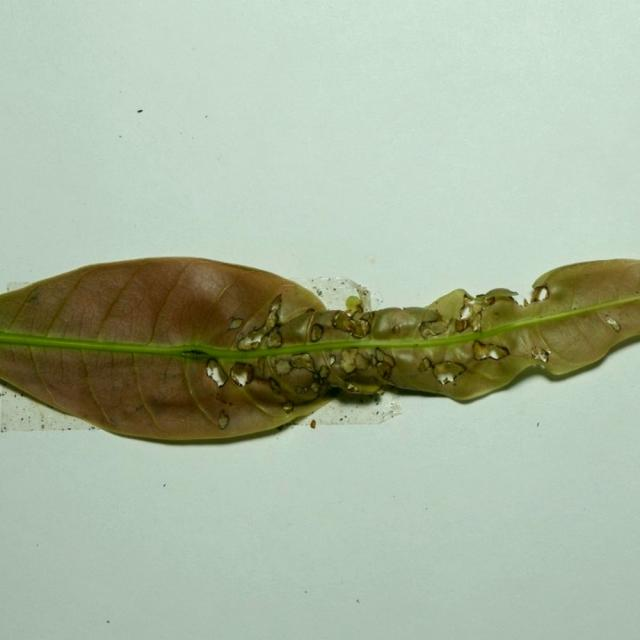Anthracnose: (89, 259, 188, 350), (12, 330, 105, 424), (179, 349, 256, 407), (536, 336, 625, 376), (130, 342, 166, 432), (261, 283, 325, 329), (257, 388, 335, 425), (595, 279, 634, 309)
Mango: (0, 257, 639, 448)
